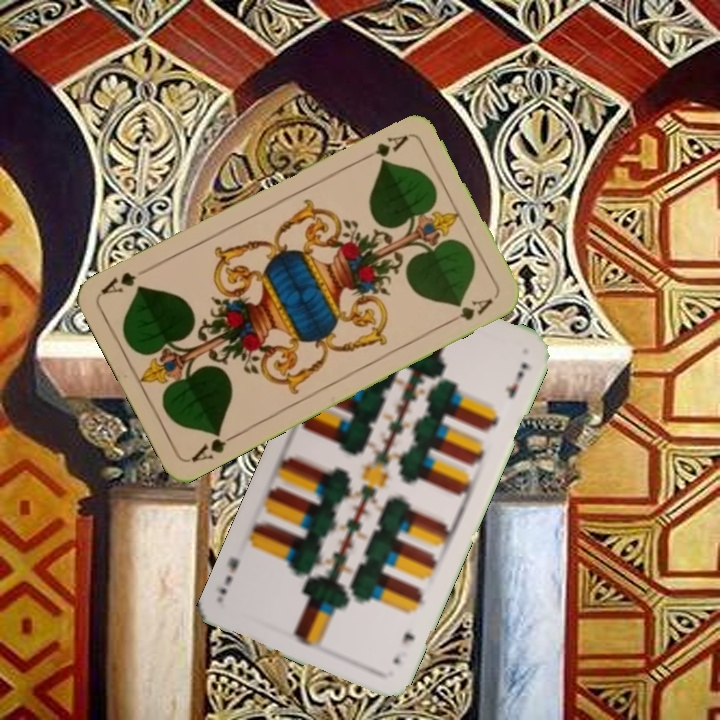E7: (389, 628, 418, 667)
GA: (186, 426, 241, 465), (357, 131, 411, 164)
